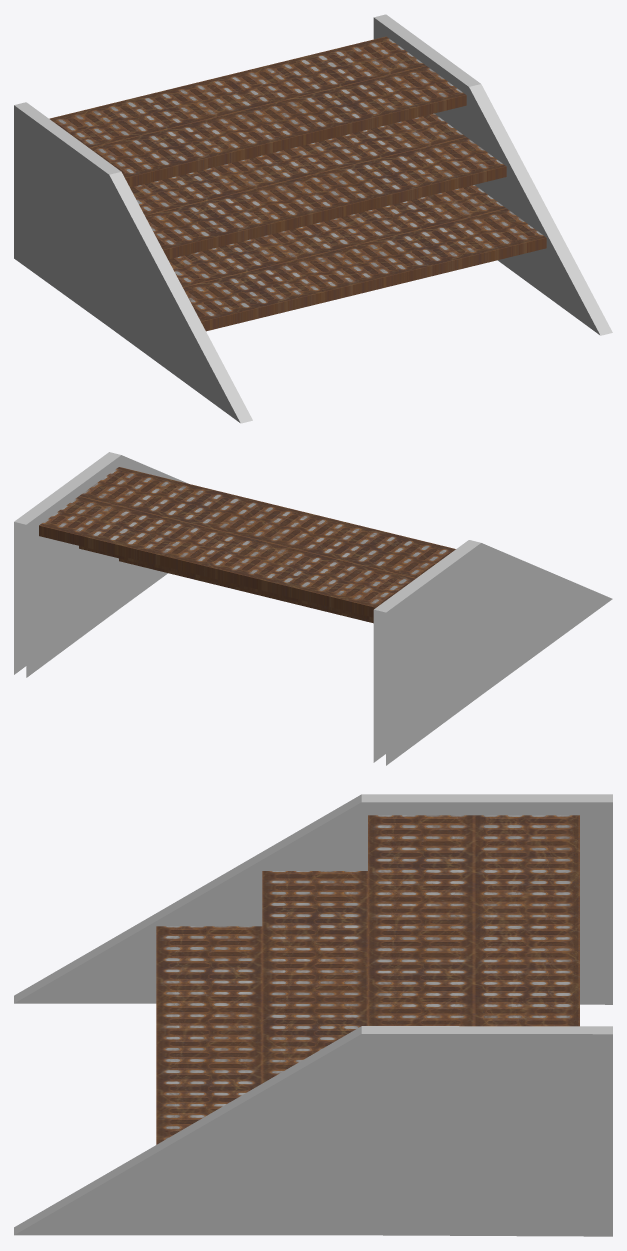
File: Small_Steps.fbx
3 views of the same model, one above another, from view 1: azimuth 30°, elevation 25°; view 2: azimuth 150°, elevation 25°; view 3: azimuth 270°, elevation 25° (orthographic). The views are drawn at different scales.
Visible parts, largest first — view 1: Small_Steps; view 2: Small_Steps; view 3: Small_Steps.
Boxes of the visible parts, bbox=[...] form: Small_Steps: bbox=[14, 14, 612, 423]; Small_Steps: bbox=[14, 452, 612, 765]; Small_Steps: bbox=[14, 794, 612, 1236].
Size of what is drawn, in the model's own units: 104 by 40.91 by 110.
